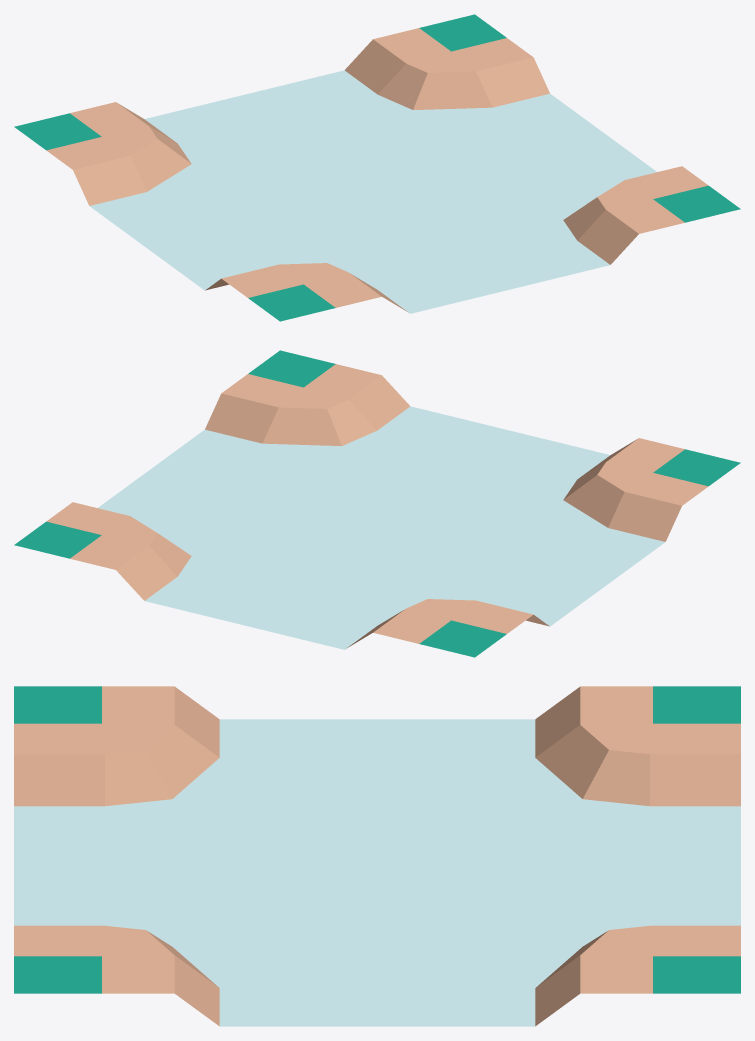
File: ground_riverCross.glb
The picture shows the model from 3 angles, top to bottom: view 1: azimuth 30°, elevation 25°; view 2: azimuth 150°, elevation 25°; view 3: azimuth 270°, elevation 25°; orthographic projection. The views are drawn at different scales.
Parts seen in each view (by area): view 1: ground_riverCross; view 2: ground_riverCross; view 3: ground_riverCross.
Boxes of the visible parts, <box> form: ground_riverCross: <box>14,14,740,321</box>; ground_riverCross: <box>14,350,740,657</box>; ground_riverCross: <box>14,686,740,1026</box>.
Bounding box in the file's own units: 1.16 × 0.0581 × 1.16.
